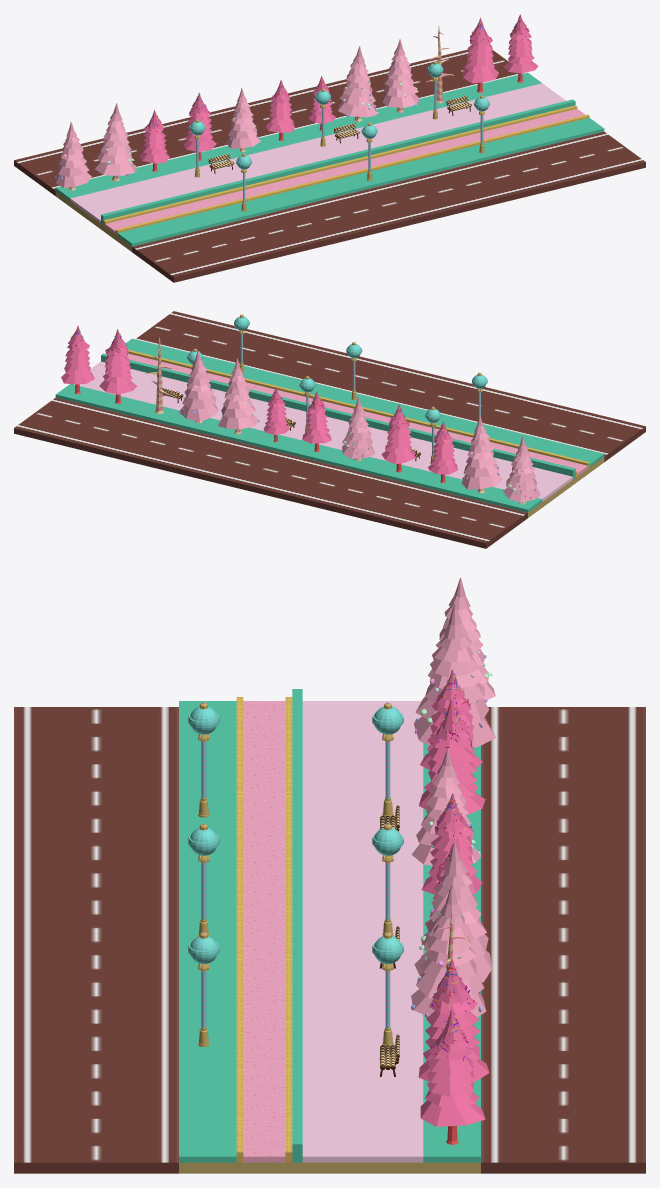
File: D2 _STREET_2.fbx
3 renders of one model, top to bottom at view 1: azimuth 30°, elevation 25°; view 2: azimuth 150°, elevation 25°; view 3: azimuth 270°, elevation 25°, orthographic. The views are drawn at different scales.
Parts seen in each view (by area): view 1: Sphere.006, Pine_Trees_Pack_Tree_stem_01.001; view 2: Sphere.006, Pine_Trees_Pack_Tree_stem_01.001; view 3: Sphere.006, Pine_Trees_Pack_Tree_stem_01.001.
Part boxes in pixels (box(x1,y1,x2,y2)): Sphere.006: box(14, 49, 645, 282); Pine_Trees_Pack_Tree_stem_01.001: box(55, 14, 538, 190); Sphere.006: box(14, 311, 645, 548); Pine_Trees_Pack_Tree_stem_01.001: box(61, 325, 540, 504); Sphere.006: box(14, 689, 645, 1173); Pine_Trees_Pack_Tree_stem_01.001: box(411, 577, 495, 1144).
Size of the model in its own units: 4661 by 795 by 2712.
Materials: 24 (6 with a texture image).
